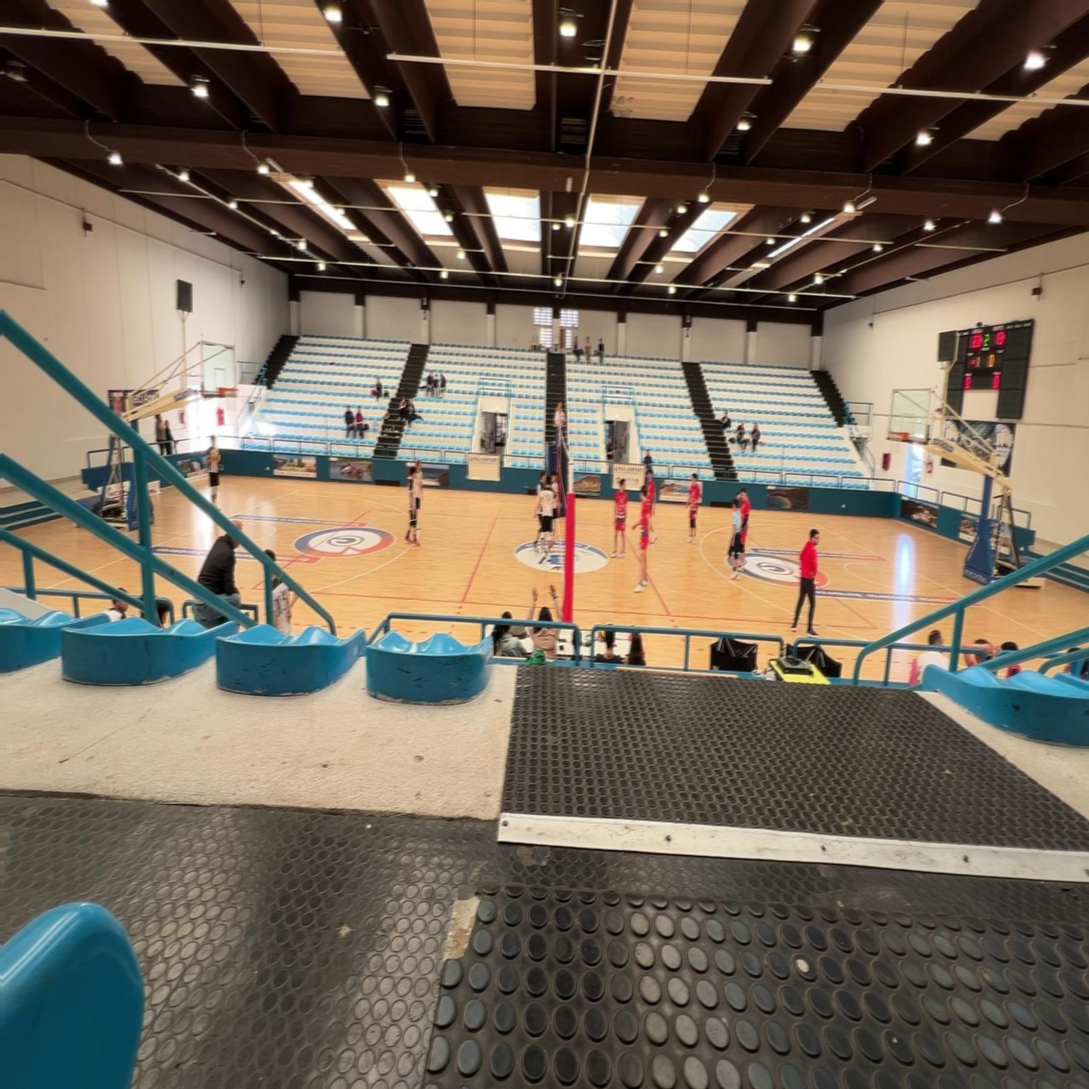ball: (214, 452, 219, 461)
